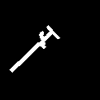double_crochet: (10, 26, 59, 71)
